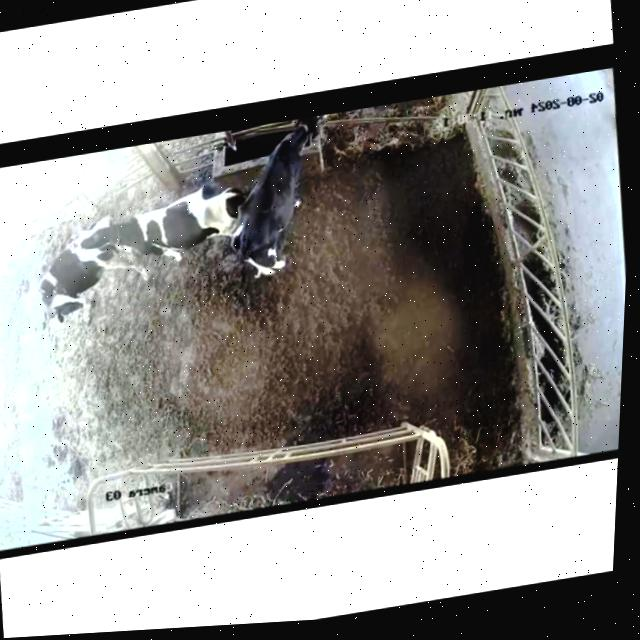propping: (49, 195, 152, 276)
